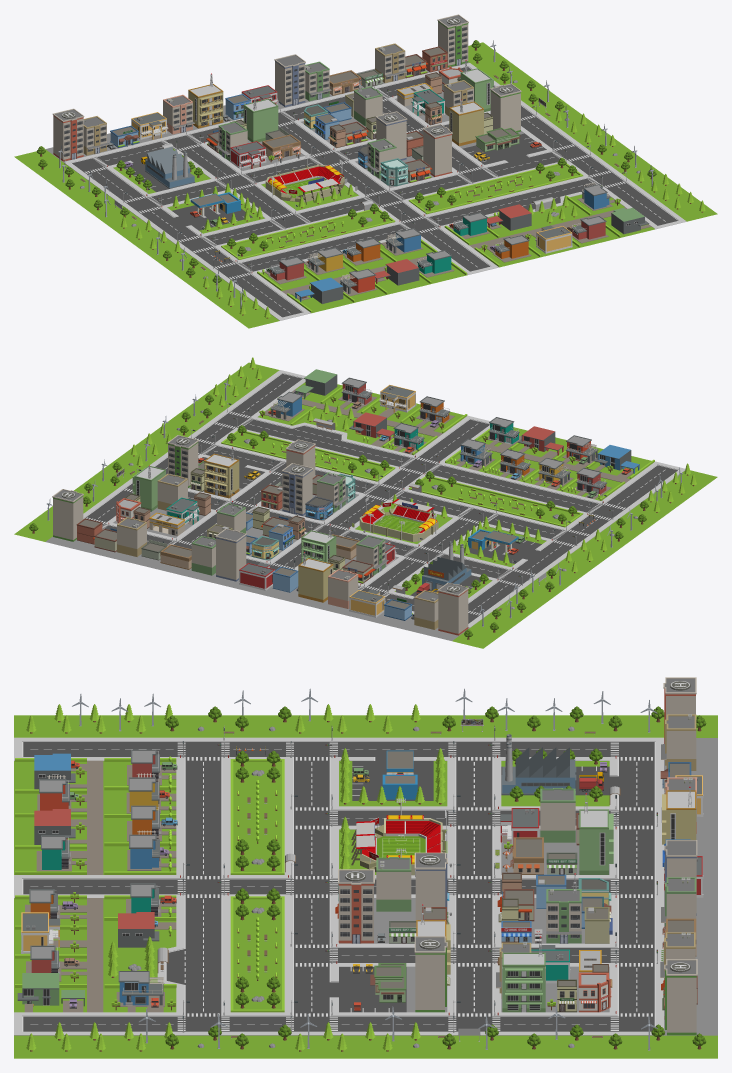
Rendered from Map.glb.
3 renders of one model, top to bottom at view 1: azimuth 30°, elevation 25°; view 2: azimuth 150°, elevation 25°; view 3: azimuth 270°, elevation 25°, orthographic. The views are drawn at different scales.
Visible parts, largest first — view 1: Natures_Grass_Tile__8_, Natures_Grass_Tile__9_, Natures_Grass_Tile__3_, Building_Stadium, Natures_Grass_Tile__1_, Natures_Grass_Tile__2_, Building_Factory, Building_Sky_big_color03__1_, Building_Sky_big_color02__1_, Building_Sky_big_color01__1_, Building_Residential_color03, Building_Sky_big_color02 (+89 smaller); view 2: Natures_Grass_Tile__8_, Natures_Grass_Tile__9_, Road_Concrete_Tile__5_, Building_Stadium, Natures_Grass_Tile__3_, Natures_Grass_Tile__2_, Natures_Grass_Tile__1_, Building_Sky_big_color02__1_, Building_Sky_big_color03__1_, Building_Residential_color03, Building_Sky_big_color03, Building_Sky_big_color01__1_ (+91 smaller); view 3: Natures_Grass_Tile__9_, Natures_Grass_Tile__8_, Natures_Grass_Tile__3_, Road_Concrete_Tile__5_, Natures_Grass_Tile__2_, Natures_Grass_Tile__1_, Building_Stadium, Road_Lane_Bus_Stop, Building_Factory, Natures_Grass_Tile__4_, Building_Residential_color01, Building_Sky_big_color02 (+130 smaller).
Part boxes in pixels (bbox=[...]): Natures_Grass_Tile__8_: bbox=[14, 149, 279, 328]; Natures_Grass_Tile__9_: bbox=[468, 42, 717, 221]; Natures_Grass_Tile__3_: bbox=[261, 243, 467, 313]; Building_Stadium: bbox=[265, 154, 344, 204]; Natures_Grass_Tile__1_: bbox=[413, 165, 578, 212]; Natures_Grass_Tile__2_: bbox=[225, 211, 390, 257]; Building_Factory: bbox=[145, 147, 195, 188]; Building_Sky_big_color03__1_: bbox=[274, 54, 305, 107]; Building_Sky_big_color02__1_: bbox=[52, 108, 84, 161]; Building_Sky_big_color01__1_: bbox=[437, 14, 468, 67]; Building_Residential_color03: bbox=[449, 101, 483, 146]; Building_Sky_big_color02: bbox=[422, 124, 452, 176]; Natures_Grass_Tile__8_: bbox=[452, 470, 717, 648]; Natures_Grass_Tile__9_: bbox=[14, 362, 279, 541]; Road_Concrete_Tile__5_: bbox=[46, 536, 469, 640]; Building_Stadium: bbox=[359, 497, 438, 541]; Natures_Grass_Tile__3_: bbox=[447, 427, 651, 500]; Natures_Grass_Tile__2_: bbox=[421, 478, 578, 525]; Natures_Grass_Tile__1_: bbox=[225, 432, 391, 479]; Building_Sky_big_color02__1_: bbox=[437, 582, 469, 635]; Building_Sky_big_color03__1_: bbox=[215, 528, 246, 581]; Building_Residential_color03: bbox=[204, 453, 239, 498]; Building_Sky_big_color03: bbox=[281, 463, 313, 515]; Building_Sky_big_color01__1_: bbox=[52, 489, 83, 541]; Natures_Grass_Tile__9_: bbox=[14, 1035, 717, 1058]; Natures_Grass_Tile__8_: bbox=[14, 715, 717, 737]; Natures_Grass_Tile__3_: bbox=[14, 761, 176, 874]; Road_Concrete_Tile__5_: bbox=[664, 738, 717, 1035]; Natures_Grass_Tile__2_: bbox=[233, 762, 281, 872]; Natures_Grass_Tile__1_: bbox=[233, 899, 281, 1009]; Building_Stadium: bbox=[351, 798, 447, 875]; Road_Lane_Bus_Stop: bbox=[157, 943, 230, 989]; Building_Factory: bbox=[501, 734, 576, 794]; Natures_Grass_Tile__4_: bbox=[14, 898, 176, 949]; Building_Residential_color01: bbox=[502, 952, 545, 1012]; Building_Sky_big_color02: bbox=[338, 869, 374, 943].
Bounding box in the file's own units: 300 × 27.23 × 260.
56 materials, 56 textured.
